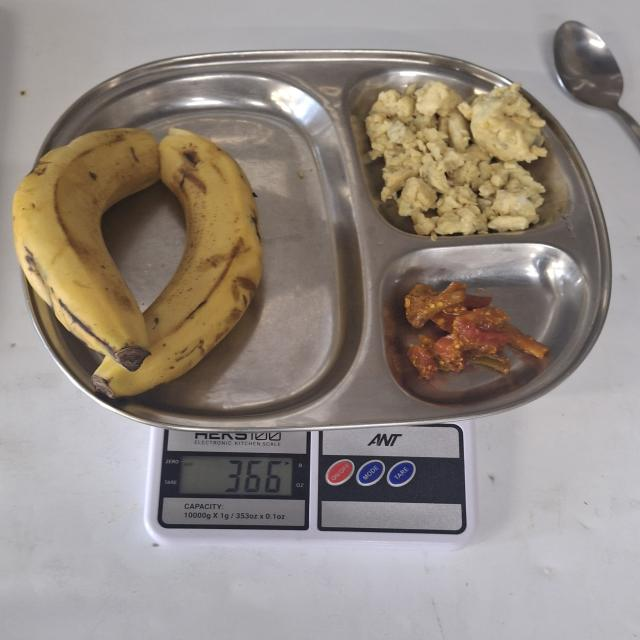Achar: (401, 278, 549, 376)
Banana: (11, 122, 268, 399)
Egg Bhurji: (362, 79, 548, 236)
